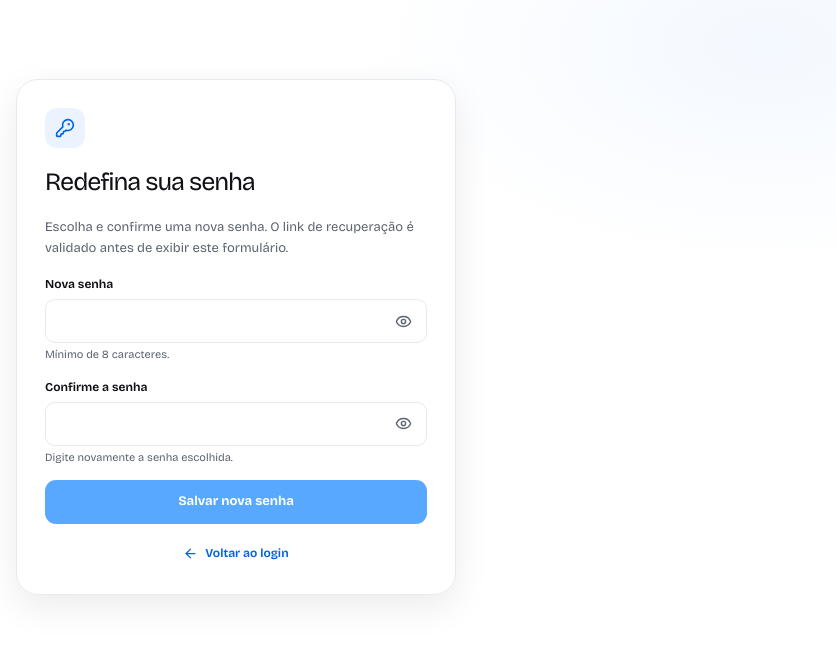
Test case: Netlify Identity invitation and password reset pages › keeps the recovery form available and reports a safe message if updateUser fails
Check: the heading "Redefina sua senha" is shown, box [45,167,255,197]
Type "New-password-2026" into the password field labelled "Nova senha" at (236, 321), box [45,299,427,343]
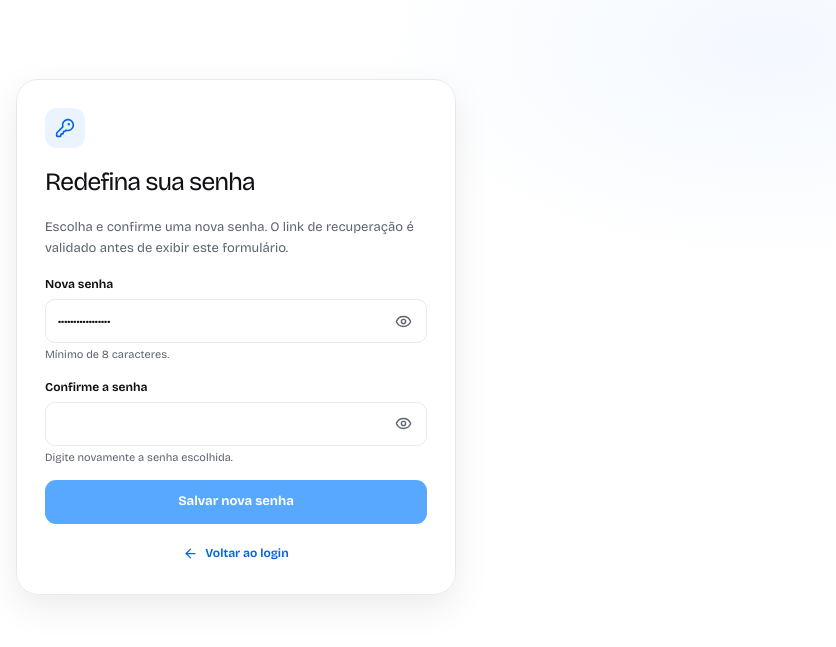
Type "New-password-2026" into the password field labelled "Confirme a senha" at (236, 424), box [45,402,427,446]
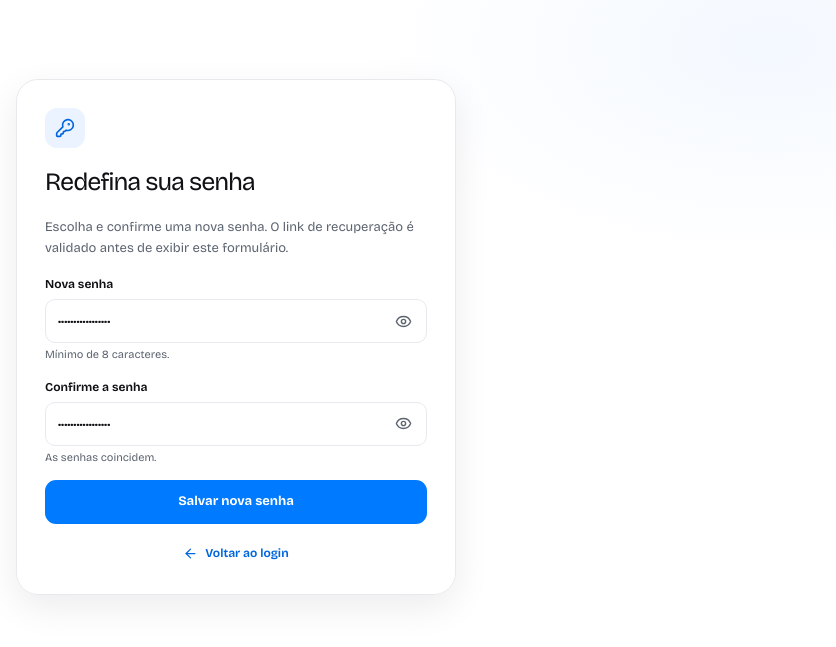
Click the button "Salvar nova senha" at (236, 502), box [45,480,427,524]
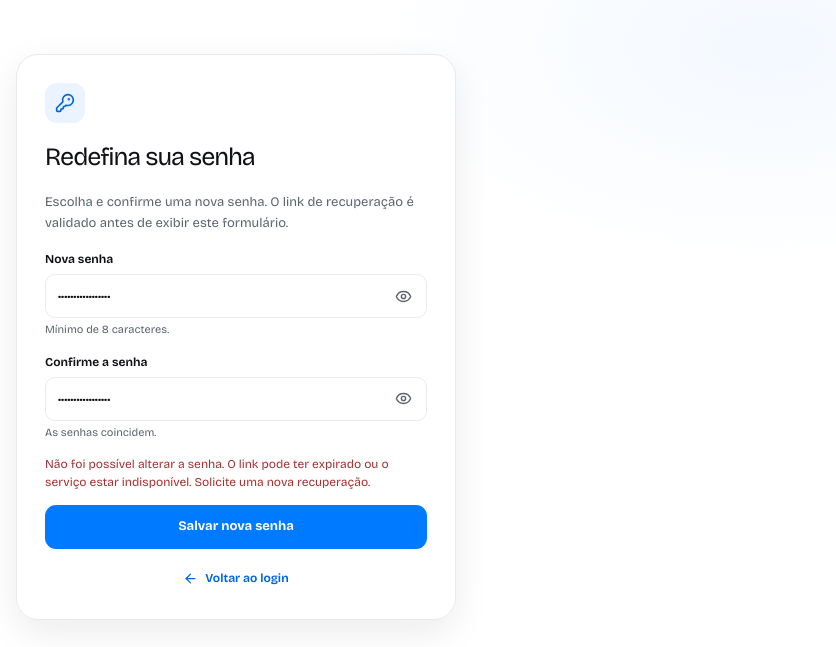
Check: the message shows "Solicite uma nova recuperação", box [45,457,389,489]
